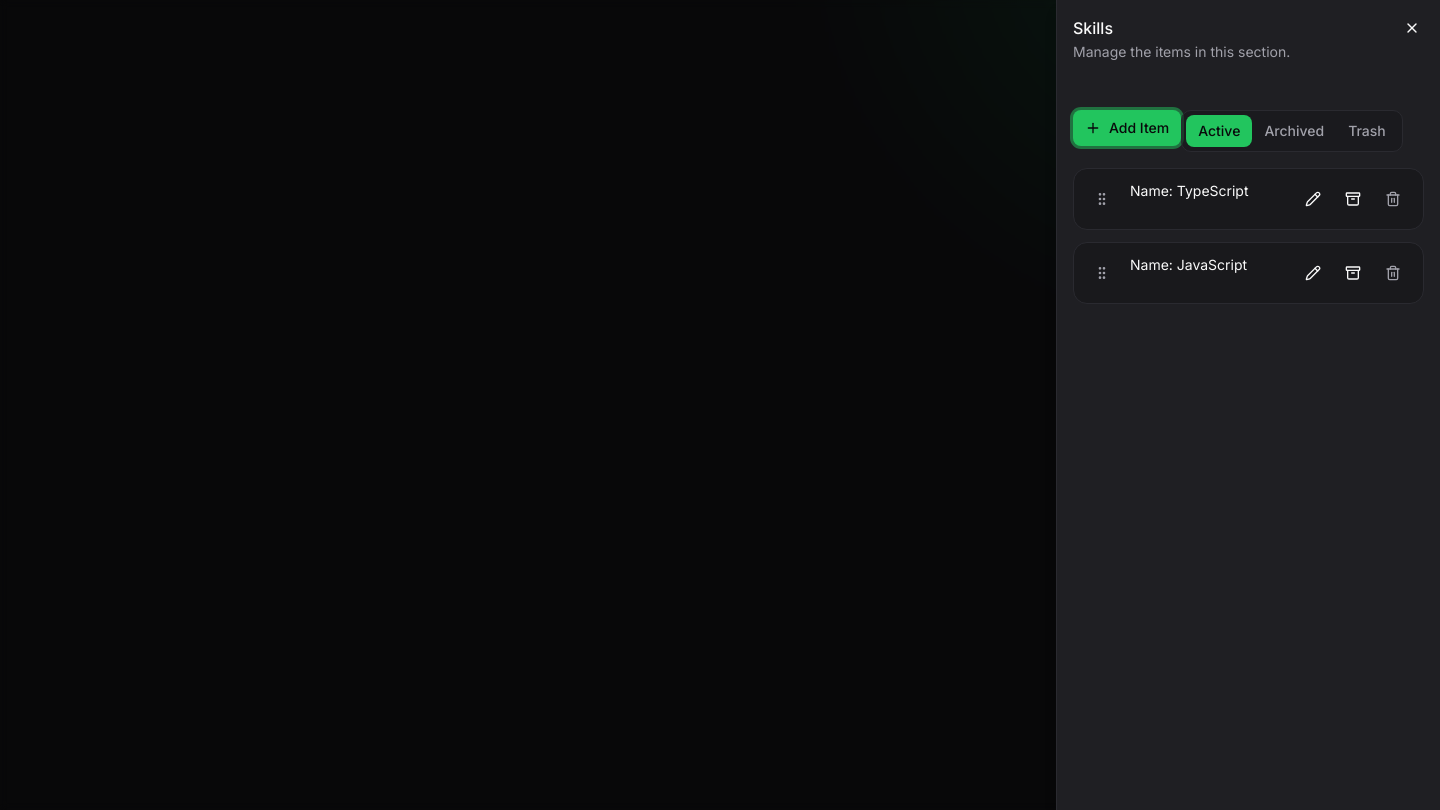
Test: ItemsDrawer › clicking the Trash tab fetches the trash state, hides reorder handles, and shows Restore + Delete…permanently
Click the tab "Trash".
click(1367, 131)  # box 1336,115 -> 1398,147
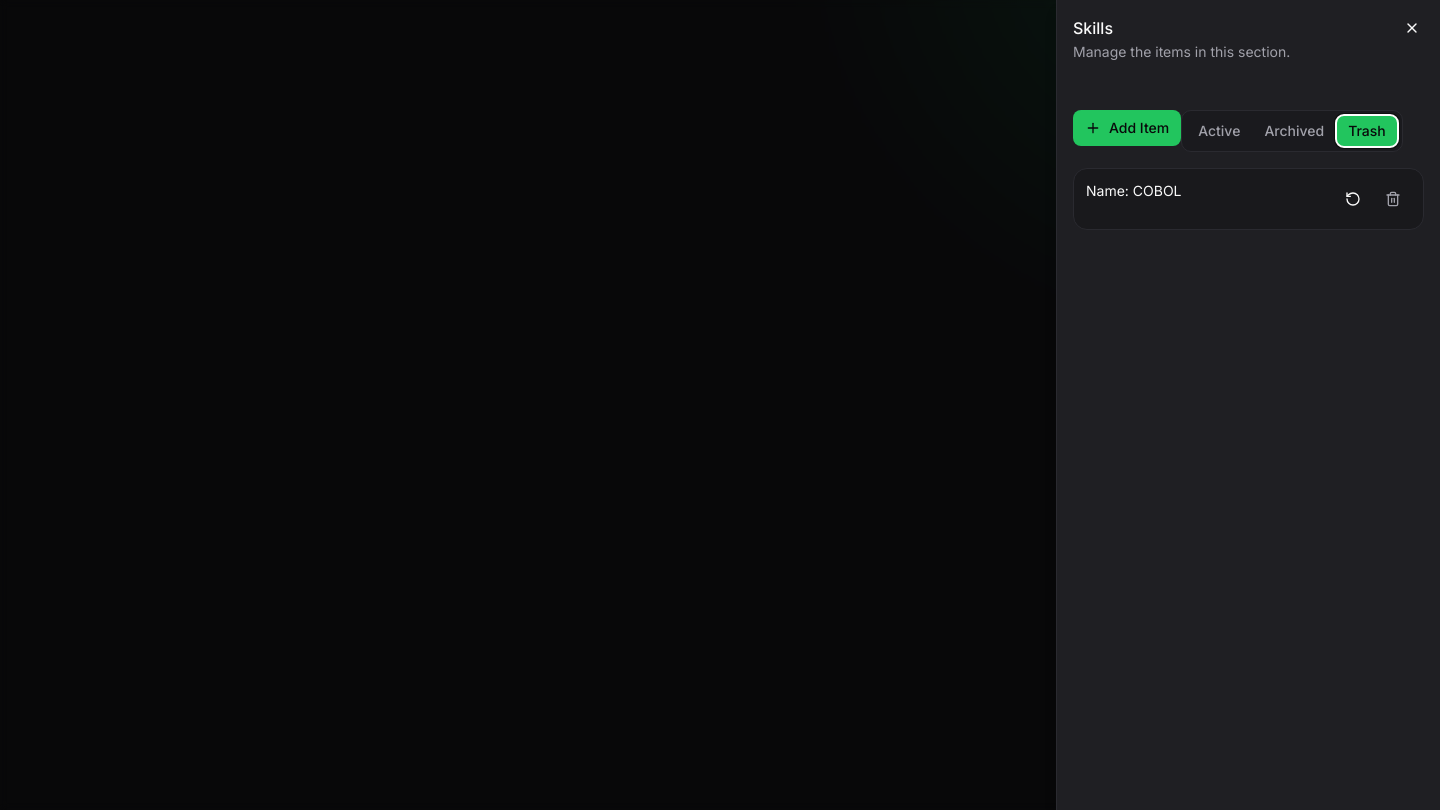
Now the number of buttons named "Restore " is 1, box 1335,181 -> 1371,217
Now the number of buttons named "permanently" is 1, box 1375,181 -> 1411,217
